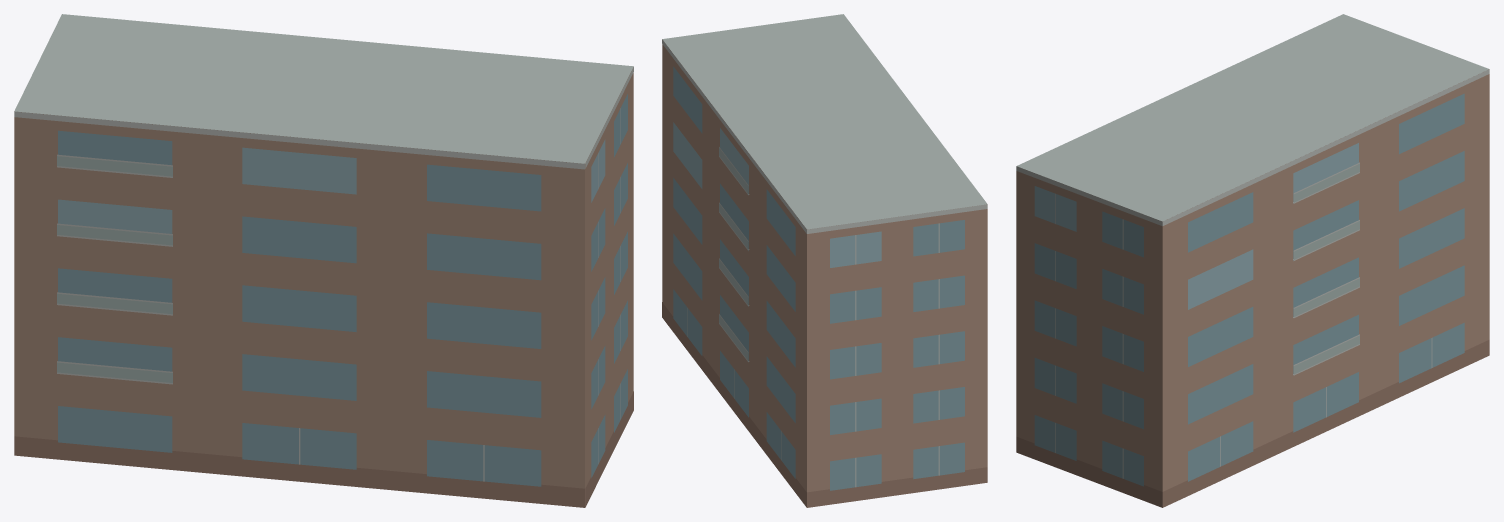
Rendered from survey-upis-32957631.glb.
3 renders of one model, left to right at view 1: azimuth 30°, elevation 25°; view 2: azimuth 150°, elevation 25°; view 3: azimuth 270°, elevation 25°, orthographic. The views are drawn at different scales.
Parts seen in each view (by area): view 1: survey-upis-32957631.tmp; view 2: survey-upis-32957631.tmp; view 3: survey-upis-32957631.tmp.
Part boxes in pixels (x1,y1,x2,y2): survey-upis-32957631.tmp: (14, 14, 633, 507); survey-upis-32957631.tmp: (662, 14, 987, 507); survey-upis-32957631.tmp: (1016, 14, 1489, 507).
Bounding box in the file's own units: 22.85 × 14.7 × 22.02.
